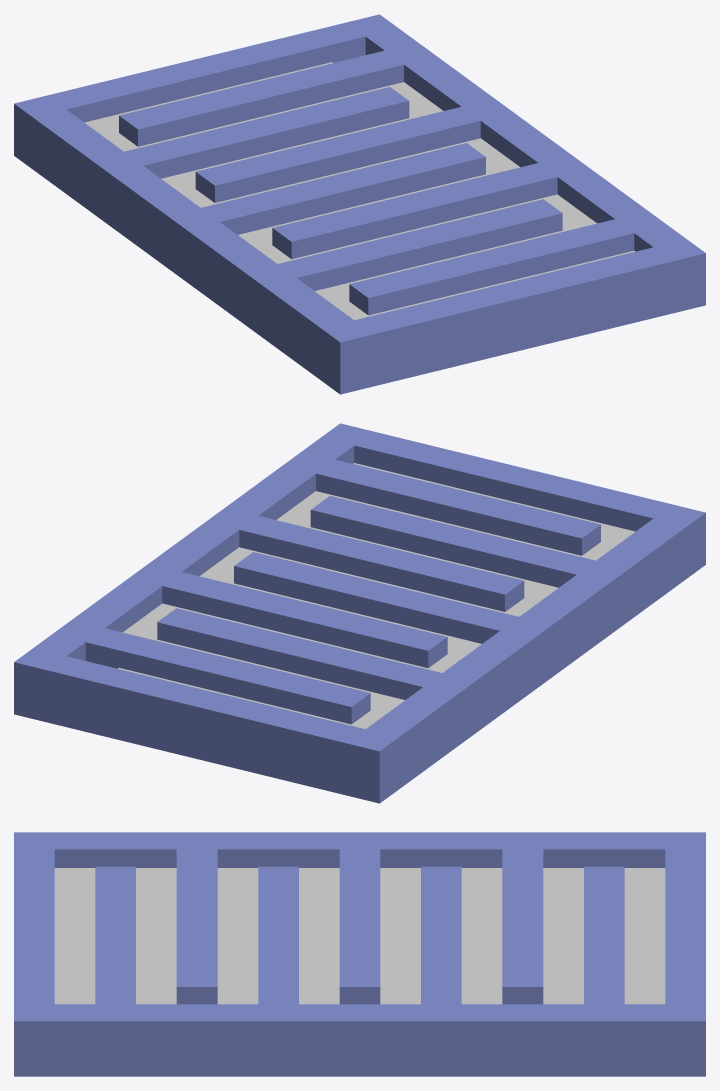
The model's file is 080_platform.fbx.
3 renders of one model, top to bottom at view 1: azimuth 30°, elevation 25°; view 2: azimuth 150°, elevation 25°; view 3: azimuth 270°, elevation 25°, orthographic. The views are drawn at different scales.
Visible parts, largest first — view 1: Grid; view 2: Grid; view 3: Grid.
Boxes of the visible parts, x1,y1,x2,y2 form: Grid: (14, 14, 705, 394); Grid: (14, 423, 705, 803); Grid: (14, 832, 705, 1076).
Size of the model in its own units: 1100 by 150 by 1700.
